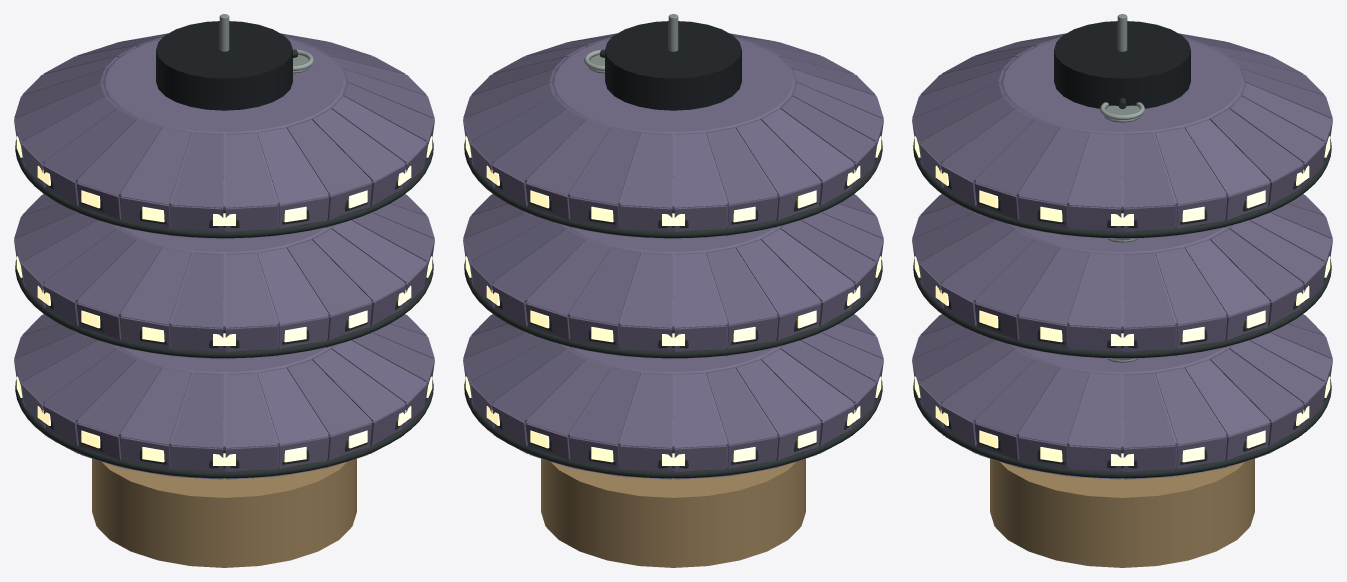
3 views of the same model, side by side, from view 1: azimuth 30°, elevation 25°; view 2: azimuth 150°, elevation 25°; view 3: azimuth 270°, elevation 25° (orthographic).
Parts seen in each view (by area): view 1: Circulation disc skins.002, Circulation disc skins.001, Circulation disc skins, Foundation drum, Environmental circulation disk.002, Disk connecting neck.002, Environmental circulation disk.001, Environmental circulation disk, Circulation disc pressure seal.001, Circulation disc pressure seal.002, Circulation disc pressure seal; view 2: Circulation disc skins.002, Circulation disc skins.001, Circulation disc skins, Foundation drum, Environmental circulation disk.002, Disk connecting neck.002, Environmental circulation disk.001, Environmental circulation disk, Circulation disc pressure seal.001, Circulation disc pressure seal.002, Circulation disc pressure seal; view 3: Circulation disc skins.002, Circulation disc skins.001, Circulation disc skins, Foundation drum, Environmental circulation disk.002, Disk connecting neck.002, Environmental circulation disk.001, Environmental circulation disk, Circulation disc pressure seal.002, Circulation disc pressure seal, Circulation disc pressure seal.001.
Boxes of the visible parts, x1=… form: Circulation disc skins.002: x1=14, y1=33, x2=434, y2=239; Circulation disc skins.001: x1=14, y1=194, x2=434, y2=359; Circulation disc skins: x1=14, y1=314, x2=434, y2=479; Foundation drum: x1=92, y1=458, x2=356, y2=567; Environmental circulation disk.002: x1=26, y1=38, x2=422, y2=230; Disk connecting neck.002: x1=156, y1=21, x2=292, y2=110; Environmental circulation disk.001: x1=25, y1=227, x2=423, y2=350; Environmental circulation disk: x1=25, y1=347, x2=423, y2=470; Circulation disc pressure seal.001: x1=15, y1=259, x2=433, y2=358; Circulation disc pressure seal.002: x1=15, y1=139, x2=433, y2=238; Circulation disc pressure seal: x1=15, y1=379, x2=433, y2=478; Circulation disc skins.002: x1=463, y1=33, x2=883, y2=239; Circulation disc skins.001: x1=463, y1=194, x2=883, y2=359; Circulation disc skins: x1=463, y1=314, x2=883, y2=479; Foundation drum: x1=541, y1=458, x2=805, y2=567; Environmental circulation disk.002: x1=475, y1=38, x2=871, y2=230; Disk connecting neck.002: x1=605, y1=21, x2=741, y2=110; Environmental circulation disk.001: x1=474, y1=227, x2=872, y2=350; Environmental circulation disk: x1=474, y1=347, x2=872, y2=470; Circulation disc pressure seal.001: x1=464, y1=259, x2=882, y2=358; Circulation disc pressure seal.002: x1=464, y1=139, x2=882, y2=238; Circulation disc pressure seal: x1=464, y1=379, x2=882, y2=478; Circulation disc skins.002: x1=912, y1=33, x2=1332, y2=239; Circulation disc skins.001: x1=912, y1=194, x2=1332, y2=359; Circulation disc skins: x1=912, y1=314, x2=1332, y2=479; Foundation drum: x1=990, y1=458, x2=1254, y2=567; Environmental circulation disk.002: x1=924, y1=38, x2=1320, y2=230; Disk connecting neck.002: x1=1054, y1=21, x2=1190, y2=108; Environmental circulation disk.001: x1=923, y1=227, x2=1321, y2=350; Environmental circulation disk: x1=923, y1=347, x2=1321, y2=470; Circulation disc pressure seal.002: x1=913, y1=138, x2=1331, y2=238; Circulation disc pressure seal: x1=913, y1=378, x2=1331, y2=478; Circulation disc pressure seal.001: x1=913, y1=258, x2=1331, y2=358.
Size of the model in its own units: 1.91 by 2.48 by 1.91.
